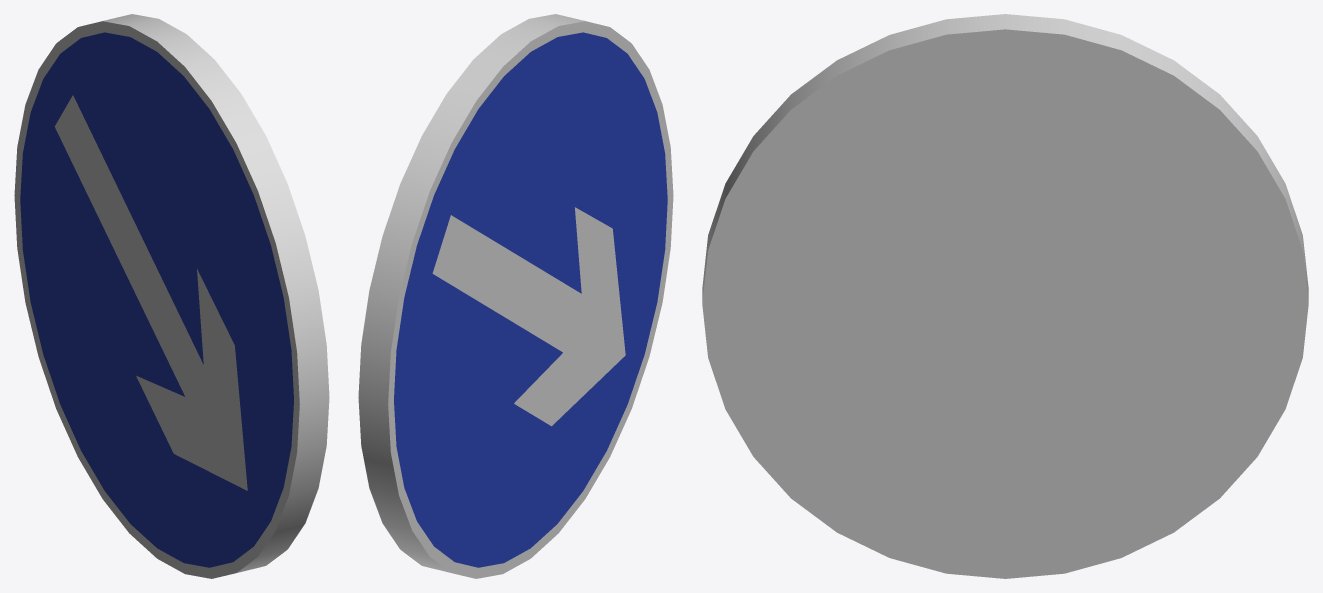
Rendered from RightSide_Of_The_Road_Driving.fbx.
The picture shows the model from 3 angles, left to right: view 1: azimuth 30°, elevation 25°; view 2: azimuth 150°, elevation 25°; view 3: azimuth 270°, elevation 25°; orthographic projection. The views are drawn at different scales.
Visible parts, largest first — view 1: RightSide_Of_The_Road_Driving; view 2: RightSide_Of_The_Road_Driving; view 3: RightSide_Of_The_Road_Driving.
Part boxes in pixels (x1,y1,x2,y2): RightSide_Of_The_Road_Driving: [14, 14, 329, 578]; RightSide_Of_The_Road_Driving: [358, 14, 673, 578]; RightSide_Of_The_Road_Driving: [702, 14, 1308, 578].
Bounding box in the file's own units: 0.0643 × 1 × 1.
